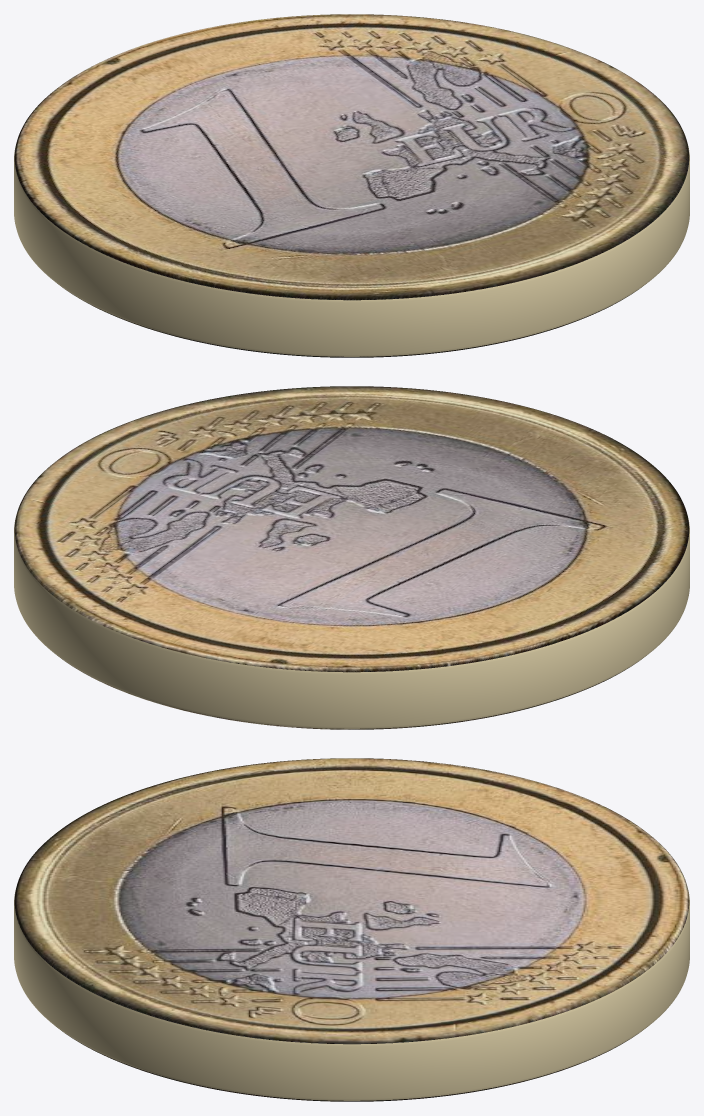
File: Piece_1_euro.glb
The picture shows the model from 3 angles, top to bottom: view 1: azimuth 30°, elevation 25°; view 2: azimuth 150°, elevation 25°; view 3: azimuth 270°, elevation 25°; orthographic projection.
Visible parts, largest first — view 1: Piece_1_euro; view 2: Piece_1_euro; view 3: Piece_1_euro.
Boxes of the visible parts, x1=… form: Piece_1_euro: x1=14, y1=14, x2=689, y2=357; Piece_1_euro: x1=14, y1=386, x2=689, y2=729; Piece_1_euro: x1=14, y1=758, x2=689, y2=1101.
Bounding box in the file's own units: 0.0233 × 0.00233 × 0.0233.
3 materials, 2 textured.
